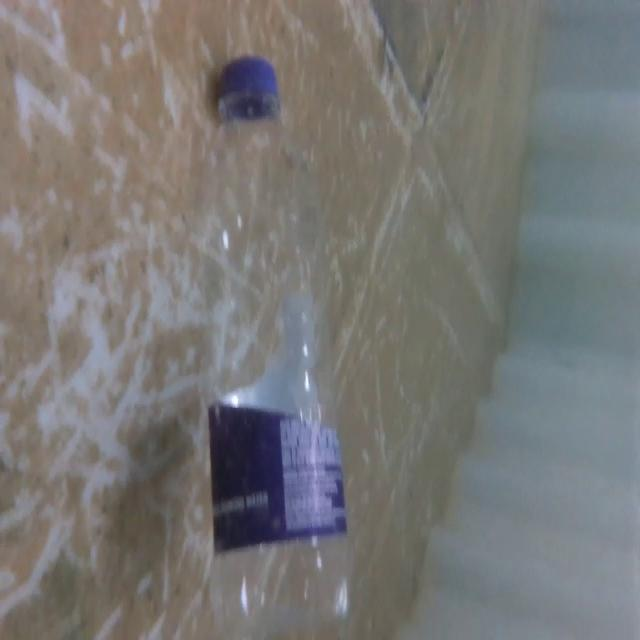plastic bottle: (201, 48, 354, 640)
